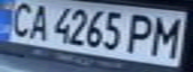2: (66, 6, 90, 47)
4: (48, 3, 72, 44)
5: (100, 8, 130, 52)
6: (84, 7, 109, 50)
A: (24, 1, 54, 42)
C: (3, 0, 39, 38)
M: (145, 14, 187, 58)
P: (124, 11, 160, 56)
